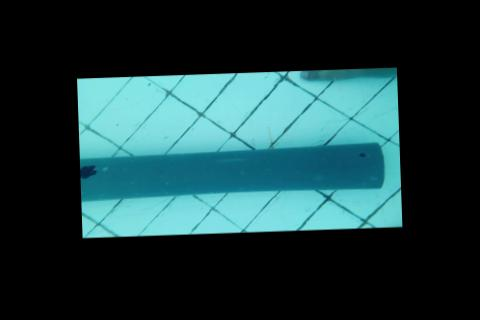kebocoran: (80, 164, 96, 177)
